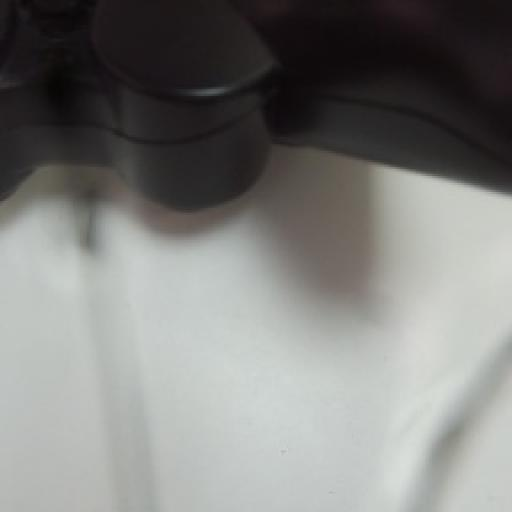game pad: (0, 0, 510, 208)
